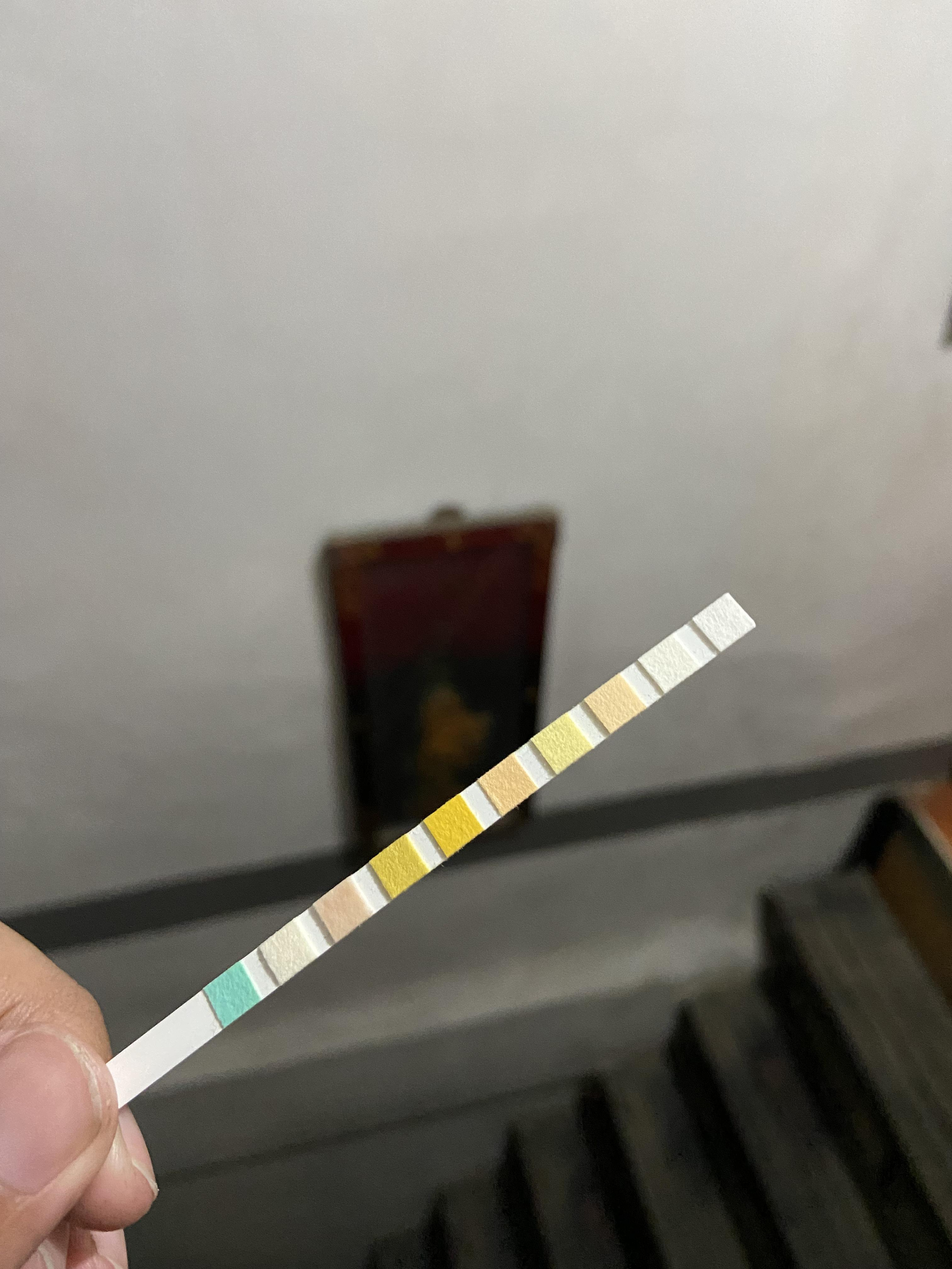Bilirubin: (273, 935, 303, 970)
Blood: (438, 809, 469, 843)
Glucose: (218, 976, 249, 1011)
Ketone: (328, 891, 358, 926)
Leukocytes: (707, 608, 744, 635)
Nitrite: (653, 647, 684, 679)
Protein: (547, 726, 577, 759)
SpGravity: (382, 851, 416, 882)
Urobilinogen: (599, 688, 631, 718)
pH: (493, 769, 524, 800)
strip: (110, 592, 757, 1094)
